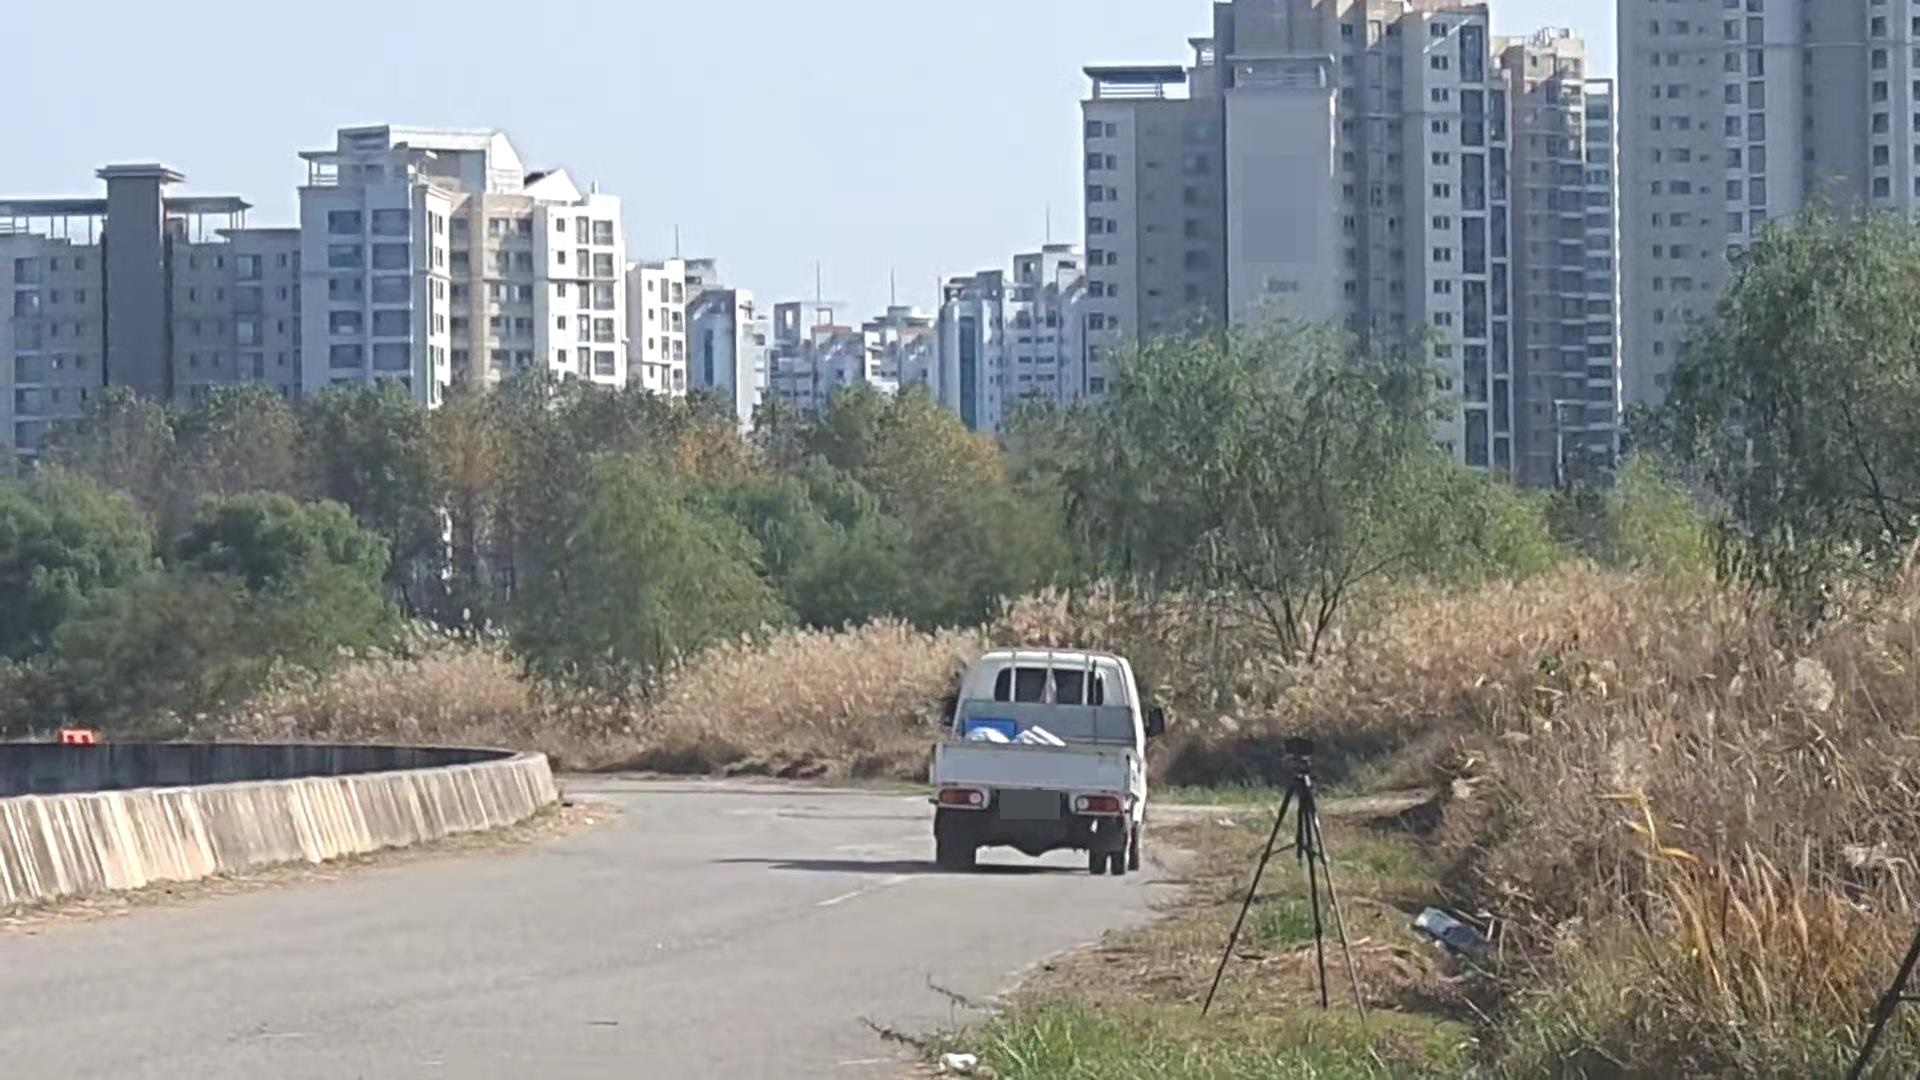불법차량: (928, 648, 1165, 874)
